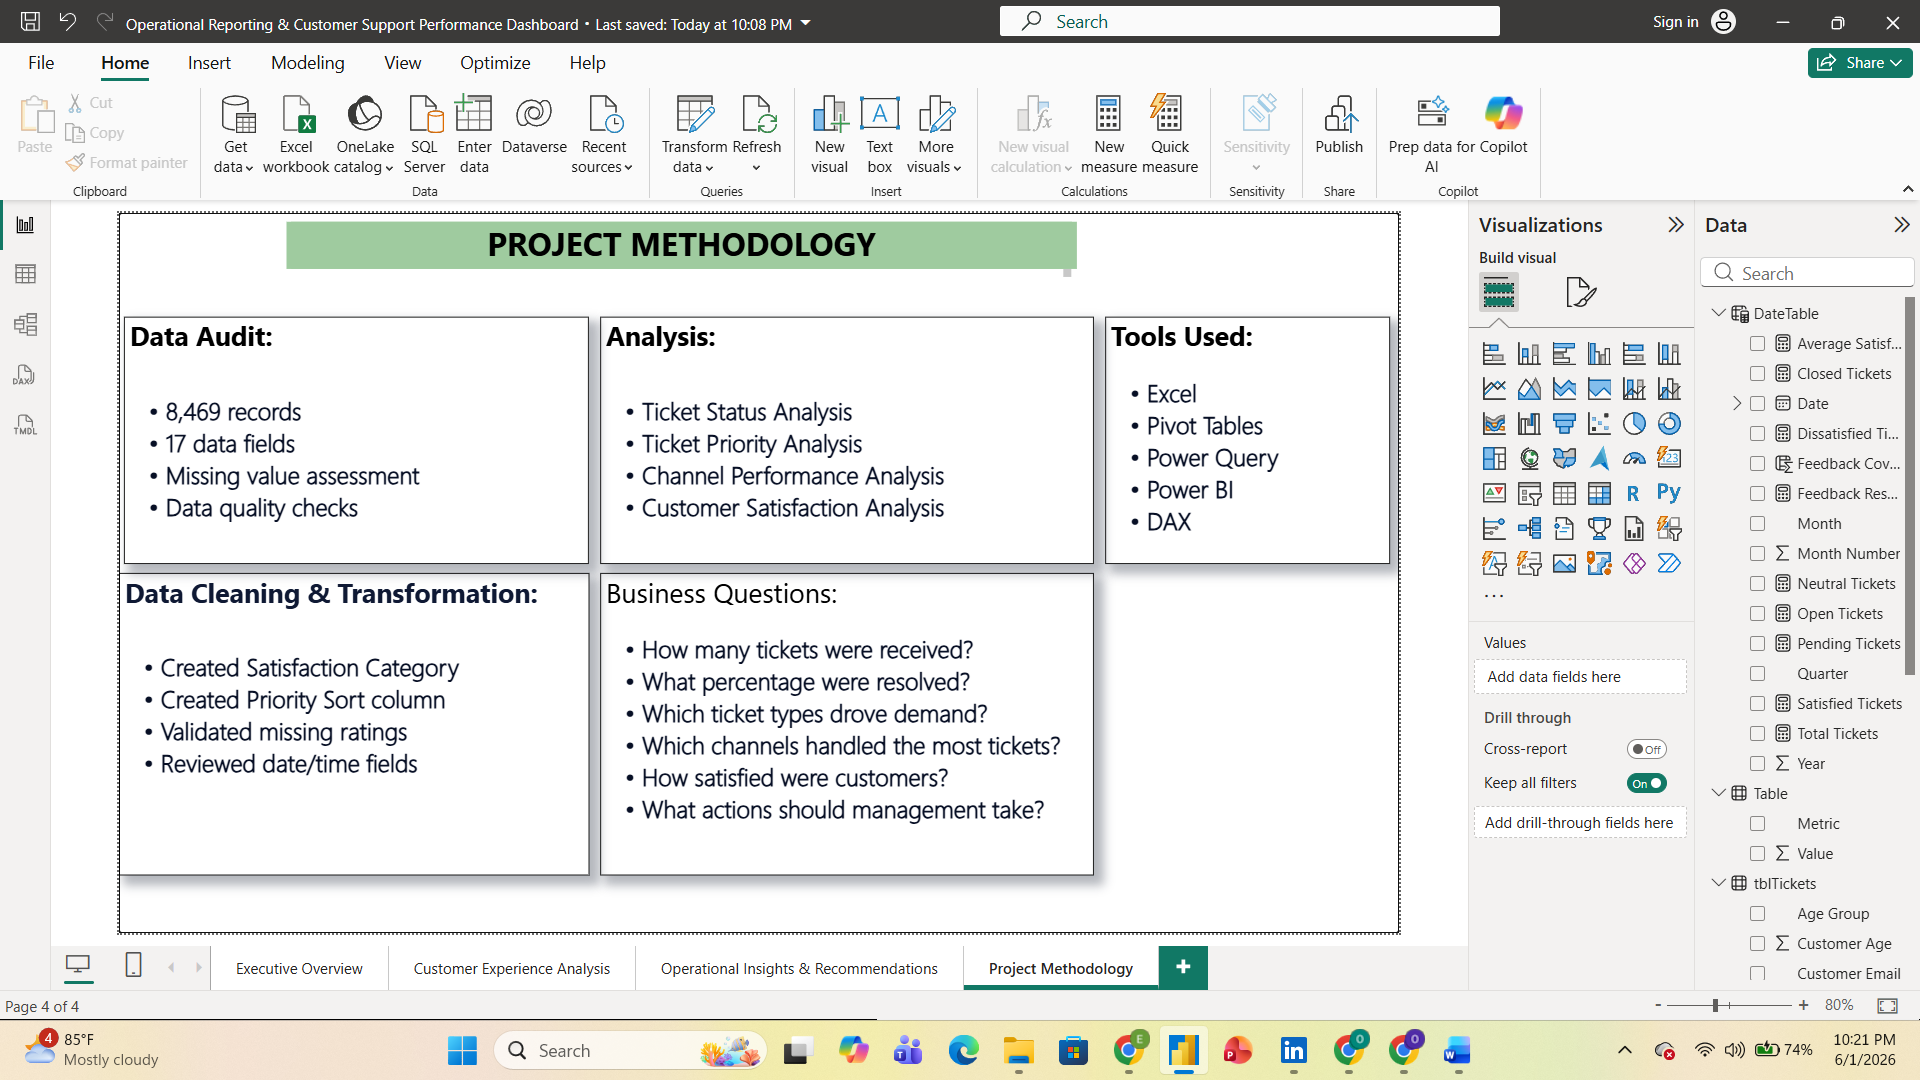

The dashboard page shown, as its layout file describes it:
{"tool":"powerbi","page":{"name":"Project Methodology","canvas":[1280,720],"ordinal":3},"visuals":[{"type":"textbox","title":"Data Audit:","box":[5,103.8,465,247.5],"z":0},{"type":"textbox","title":"Data Cleaning & Transformation:","box":[0,360,470,302.5],"z":1000},{"type":"textbox","title":"Analysis:","box":[481.2,103.8,493.8,247.5],"z":2000},{"type":"textbox","title":"Tools Used:","box":[986.2,103.8,285,247.5],"z":3000},{"type":"textbox","title":"Business Questions:","box":[481.2,360,493.8,302.5],"z":4000},{"type":"textbox","title":"PROJECT METHODOLOGY","box":[167.5,8.8,790,60],"z":5000}]}

Visuals, with their boxes on the page's 1280x720 design canvas (x1, y1, x2, y2). These are canvas units, not pixel positions in the 1920x1080 screenshot, which may show the page scaled, cropped or inside an application window:
"Data Audit:" textbox: {"left": 5, "top": 104, "right": 470, "bottom": 351}
"Data Cleaning & Transformation:" textbox: {"left": 0, "top": 360, "right": 470, "bottom": 662}
"Analysis:" textbox: {"left": 481, "top": 104, "right": 975, "bottom": 351}
"Tools Used:" textbox: {"left": 986, "top": 104, "right": 1271, "bottom": 351}
"Business Questions:" textbox: {"left": 481, "top": 360, "right": 975, "bottom": 662}
"PROJECT METHODOLOGY" textbox: {"left": 168, "top": 9, "right": 958, "bottom": 69}
